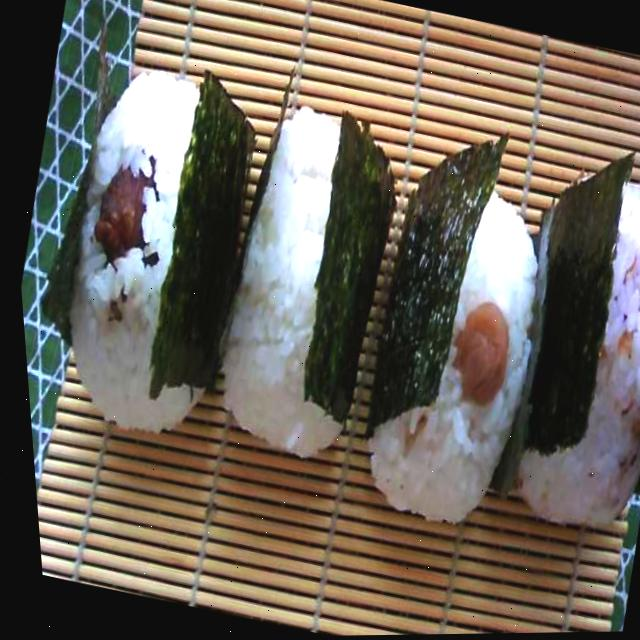米饭主食: (321, 95, 597, 554), (3, 43, 294, 463), (163, 57, 446, 485), (457, 117, 640, 561)
